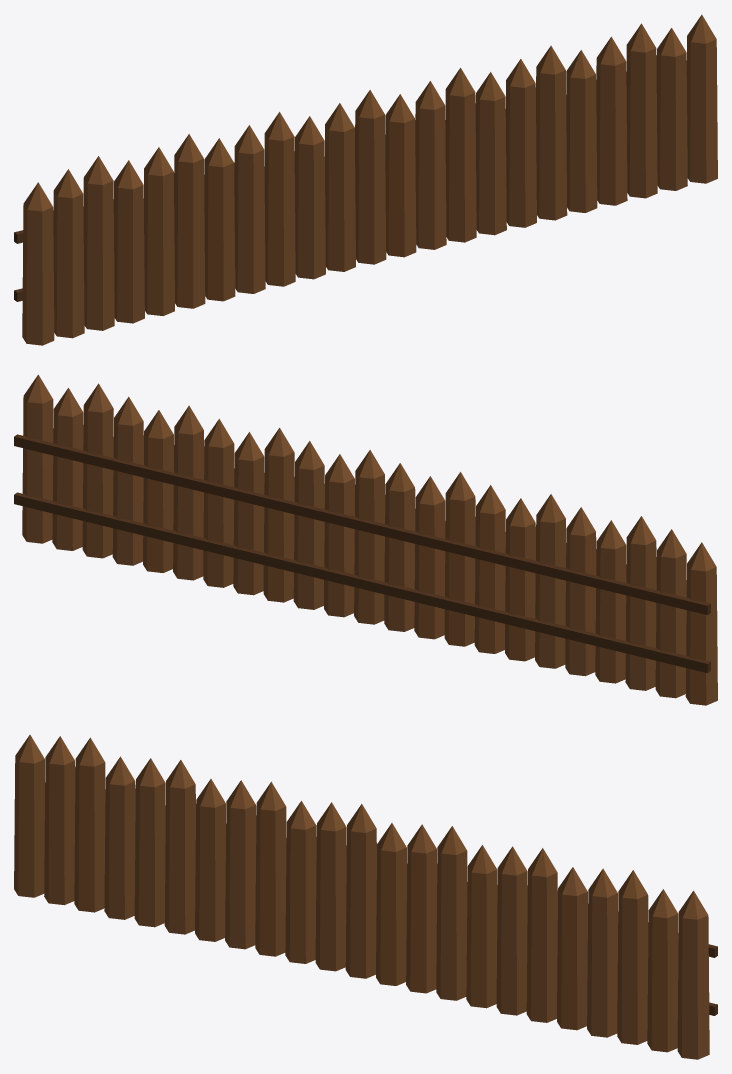
Rendered from human_wall.glb.
3 views of the same model, one above another, from view 1: azimuth 30°, elevation 25°; view 2: azimuth 150°, elevation 25°; view 3: azimuth 330°, elevation 25° (orthographic).
Visible parts, largest first — view 1: human_wall; view 2: human_wall; view 3: human_wall.
Boxes of the visible parts, x1,y1,x2,y2 form: human_wall: (14,14,717,345); human_wall: (14,374,717,705); human_wall: (14,734,717,1059).
Size of the model in its own units: 6.25 by 1.45 by 0.2706.
